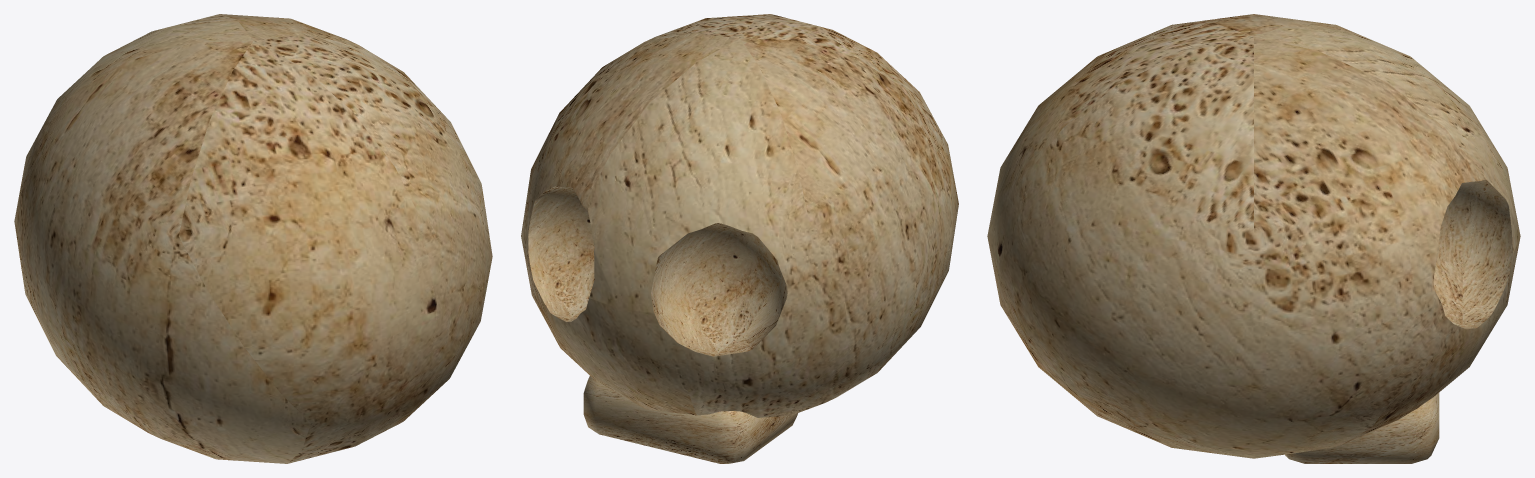
Rendered from lone-skull-v01-photo.glb.
3 views of the same model, side by side, from view 1: azimuth 30°, elevation 25°; view 2: azimuth 150°, elevation 25°; view 3: azimuth 270°, elevation 25° (orthographic). The views are drawn at different scales.
Parts seen in each view (by area): view 1: skull; view 2: skull; view 3: skull.
Boxes of the visible parts, x1,y1,x2,y2 form: skull: [14, 14, 492, 463]; skull: [521, 14, 958, 463]; skull: [987, 14, 1520, 463].
Size of the model in its own units: 0.48 by 0.456 by 0.552.
1 material, 1 textured.
